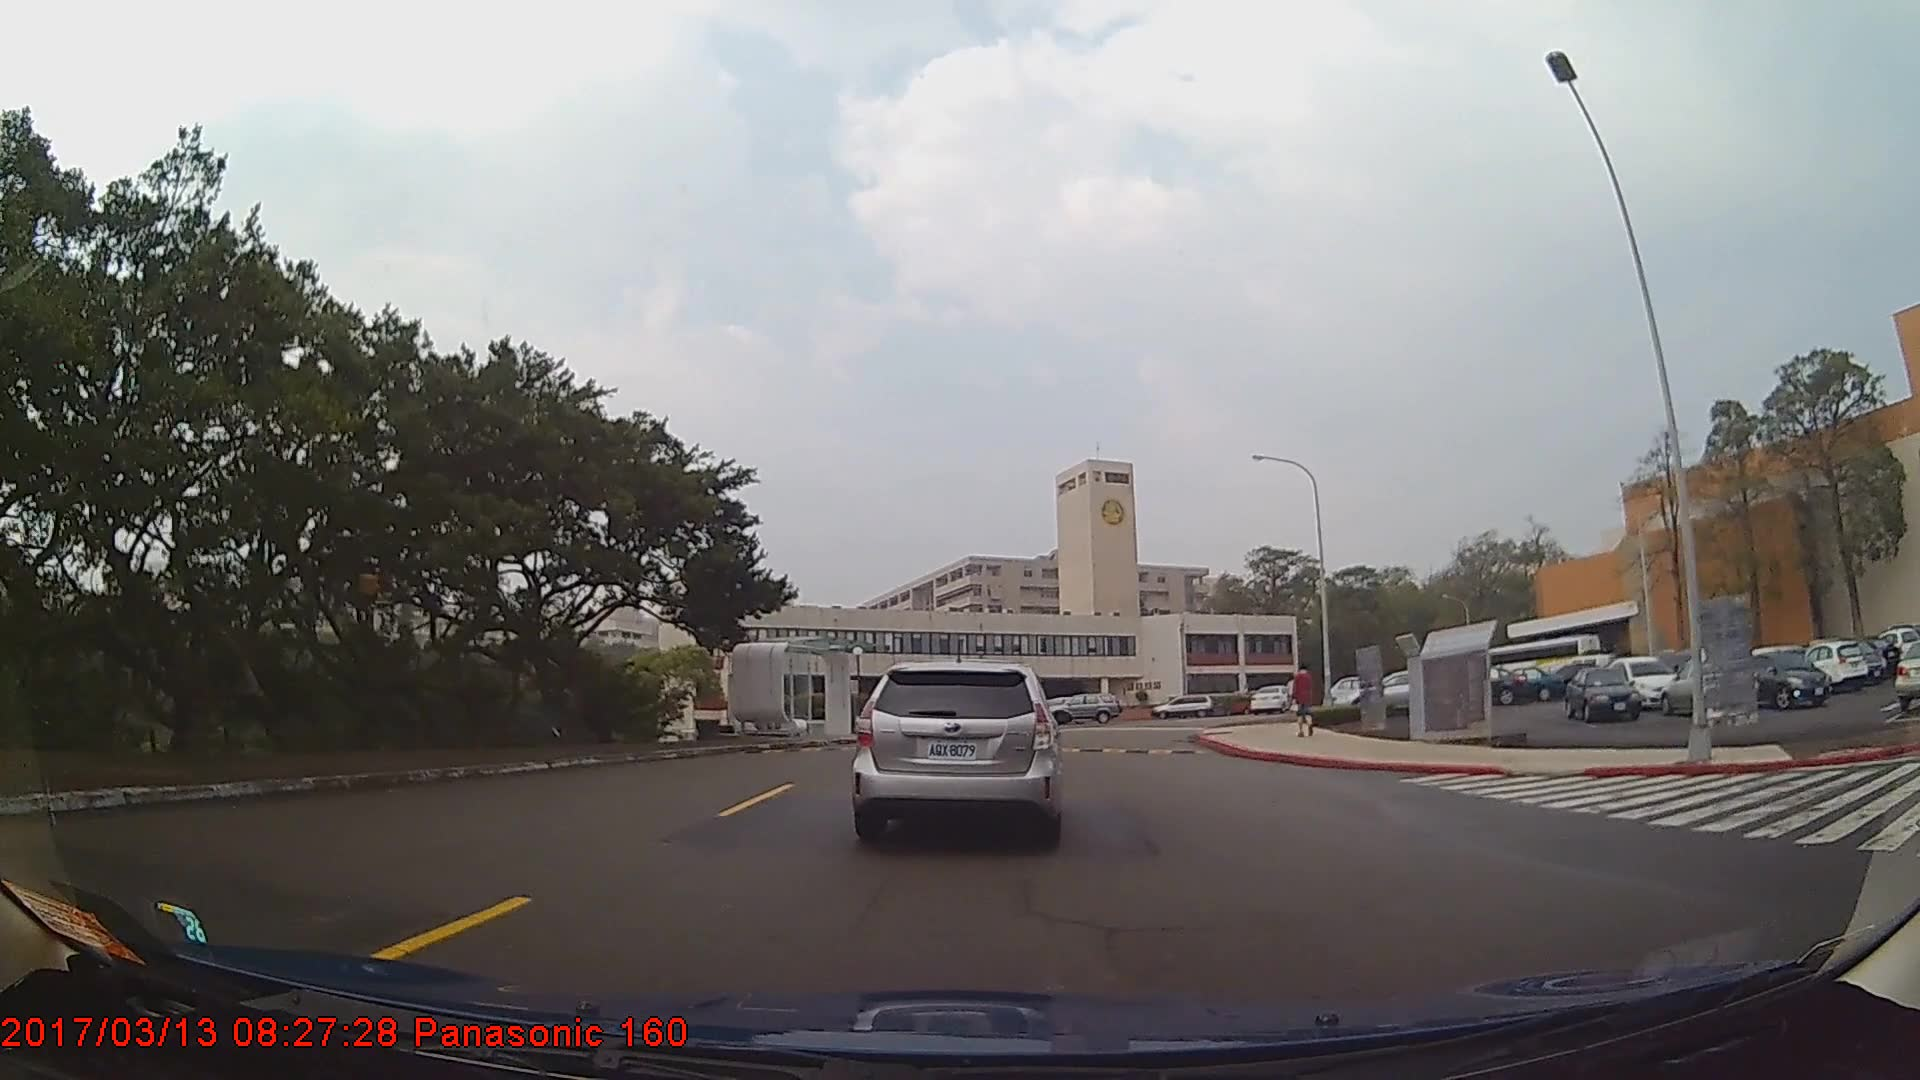pedestrian: (1291, 660, 1319, 740)
vehicle: (852, 656, 1060, 847), (1657, 656, 1749, 715), (1742, 649, 1832, 708), (1604, 653, 1678, 710), (1567, 665, 1640, 721), (1805, 639, 1867, 689), (1453, 665, 1530, 703), (1043, 688, 1123, 722), (1498, 665, 1566, 703), (1151, 690, 1216, 719), (1248, 680, 1291, 715)
